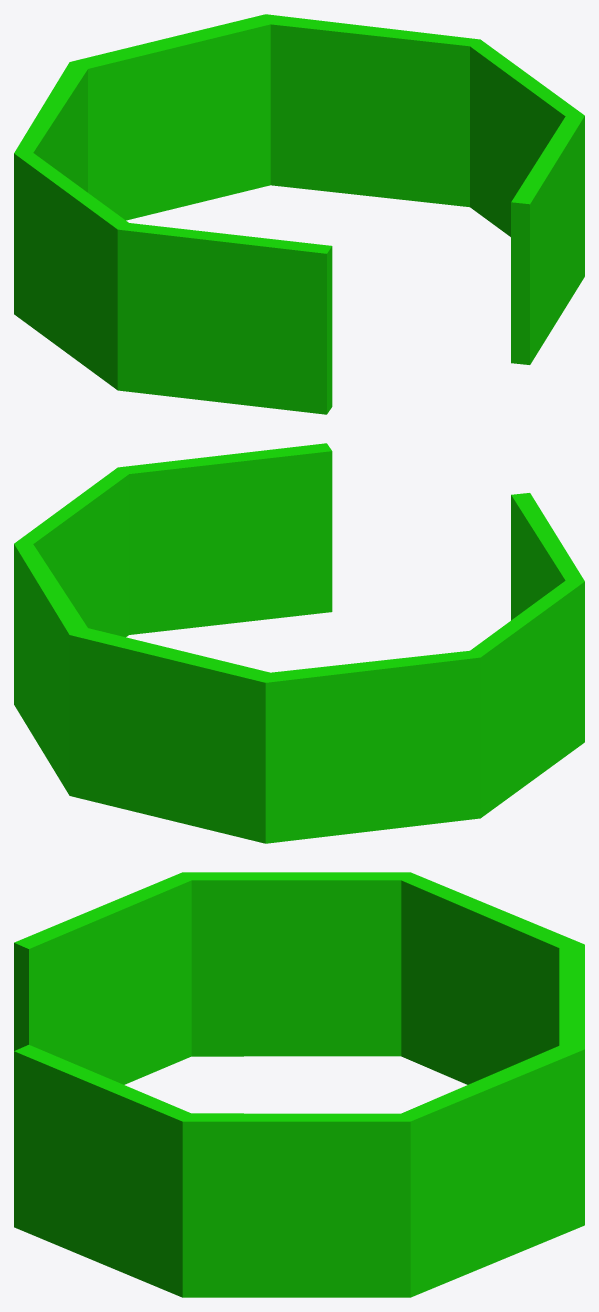
The model's file is SM_wall_300Oct_collider.fbx.
3 renders of one model, top to bottom at view 1: azimuth 30°, elevation 25°; view 2: azimuth 150°, elevation 25°; view 3: azimuth 270°, elevation 25°, orthographic. The views are drawn at different scales.
Parts seen in each view (by area): view 1: Cube.008; view 2: Cube.008; view 3: Cube.008.
Boxes of the visible parts, x1,y1,x2,y2 form: Cube.008: (14, 14, 584, 414); Cube.008: (14, 443, 584, 843); Cube.008: (14, 872, 584, 1297).
Size of the model in its own units: 15.25 by 5.02 by 14.74.
